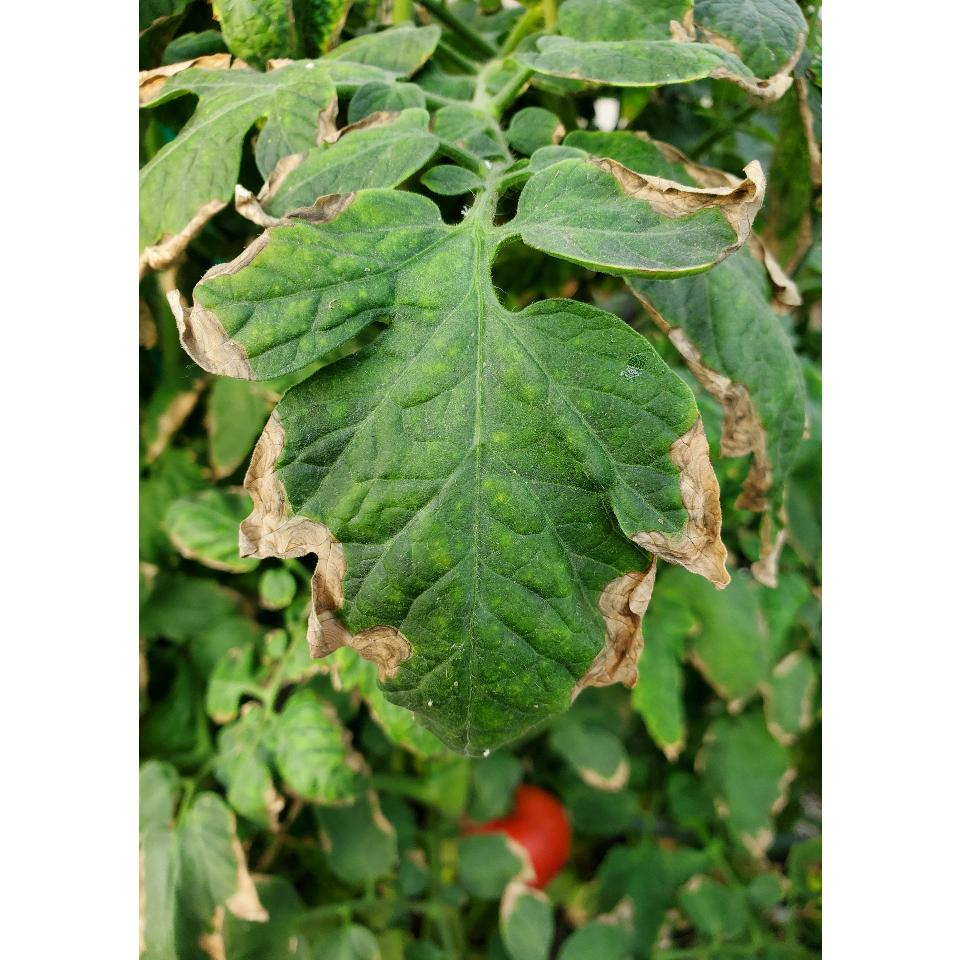tomato_bacterial_blight: (176, 153, 766, 764)
